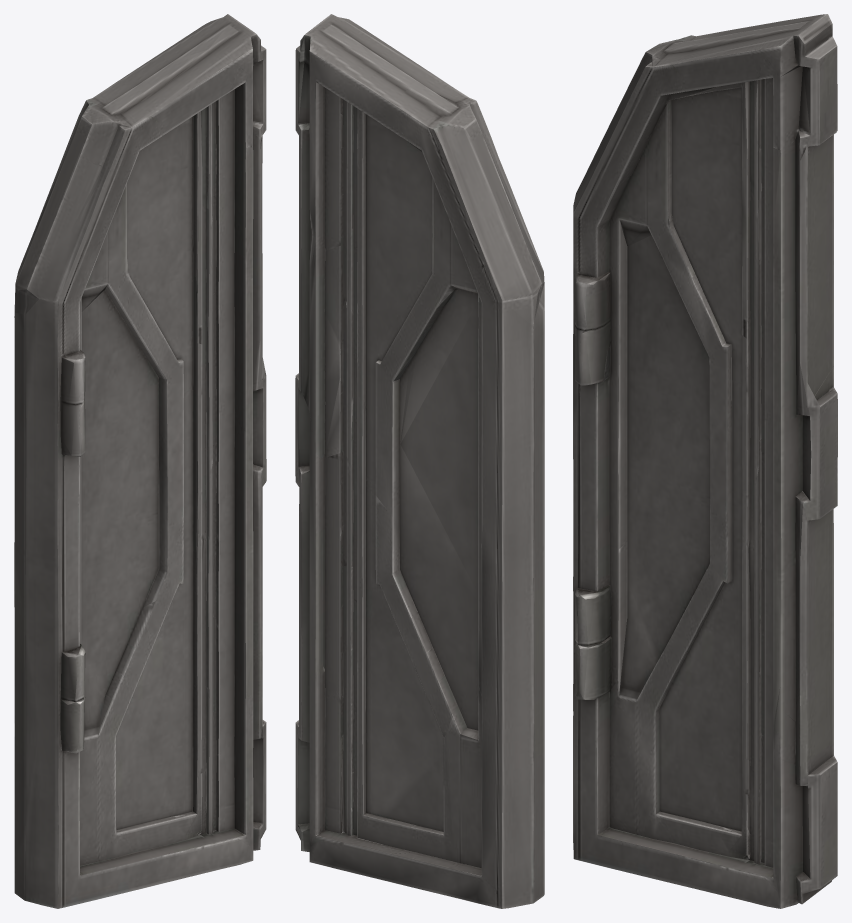
Rendered from imperial_city_wall_tower__entrance_door_left.glb.
3 renders of one model, left to right at view 1: azimuth 30°, elevation 25°; view 2: azimuth 150°, elevation 25°; view 3: azimuth 330°, elevation 25°, orthographic. The views are drawn at different scales.
Visible parts, largest first — view 1: mesh_node; view 2: mesh_node; view 3: mesh_node.
Boxes of the visible parts, bbox=[...] form: mesh_node: bbox=[14, 14, 266, 908]; mesh_node: bbox=[295, 14, 544, 908]; mesh_node: bbox=[573, 14, 837, 908].
Size of the model in its own units: 0.6706 by 2.22 by 0.2408.
Materials: 1 (1 with a texture image).
